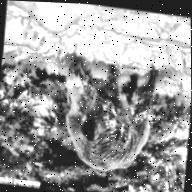boar: (50, 44, 162, 185)
